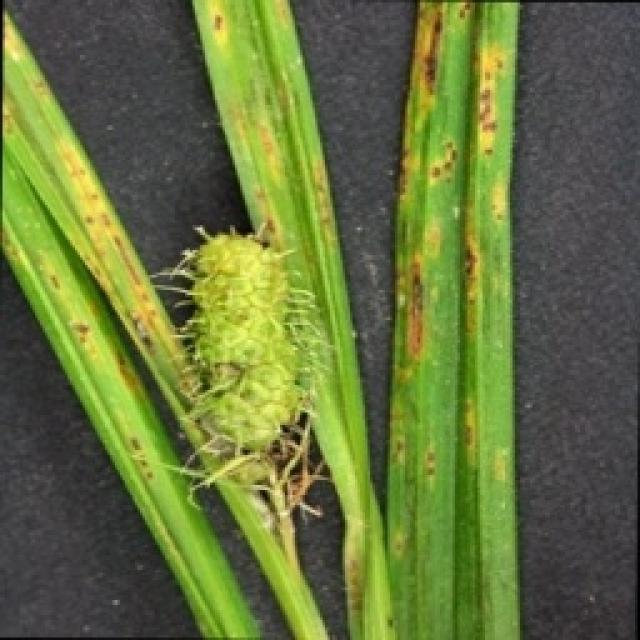Elderberry_rust: (145, 218, 333, 528)
